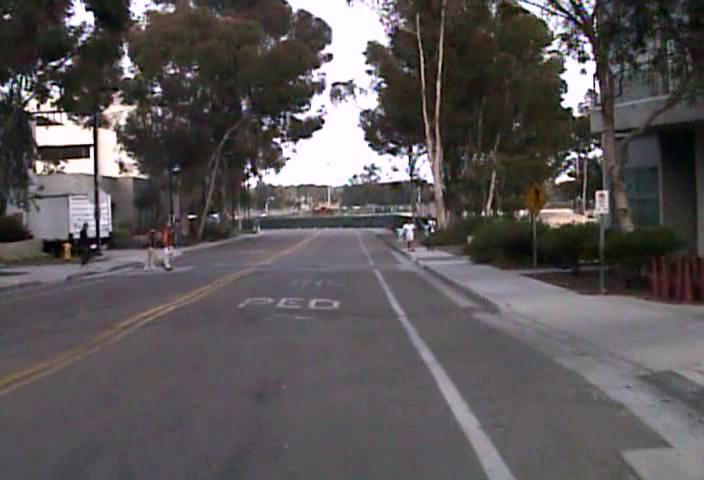pedestrianCrossing: (520, 180, 549, 214)
